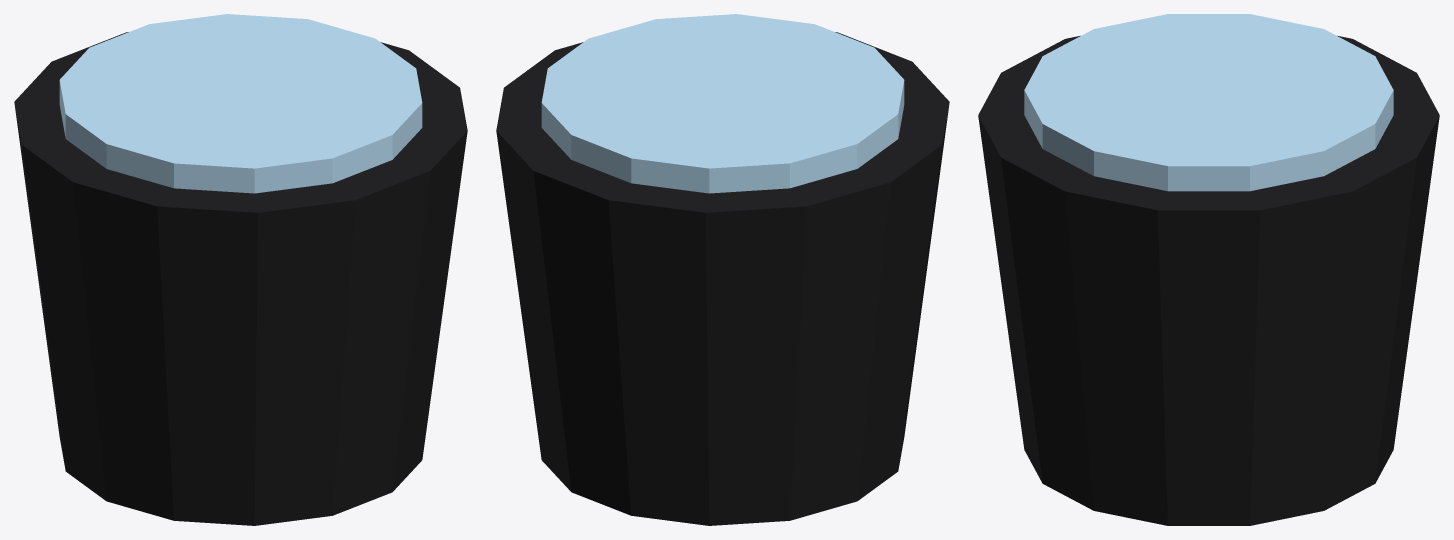
Rendered from rink_loupe.glb.
3 views of the same model, side by side, from view 1: azimuth 30°, elevation 25°; view 2: azimuth 150°, elevation 25°; view 3: azimuth 270°, elevation 25° (orthographic).
Parts seen in each view (by area): view 1: body_loupe_black, lens_loupe_glass; view 2: body_loupe_black, lens_loupe_glass; view 3: body_loupe_black, lens_loupe_glass.
Boxes of the visible parts, bbox=[...] form: body_loupe_black: bbox=[14, 32, 467, 525]; lens_loupe_glass: bbox=[59, 14, 422, 193]; body_loupe_black: bbox=[496, 32, 949, 525]; lens_loupe_glass: bbox=[541, 14, 904, 193]; body_loupe_black: bbox=[978, 35, 1439, 525]; lens_loupe_glass: bbox=[1024, 14, 1393, 191].
Bounding box in the file's own units: 0.0487 × 0.043 × 0.05.
